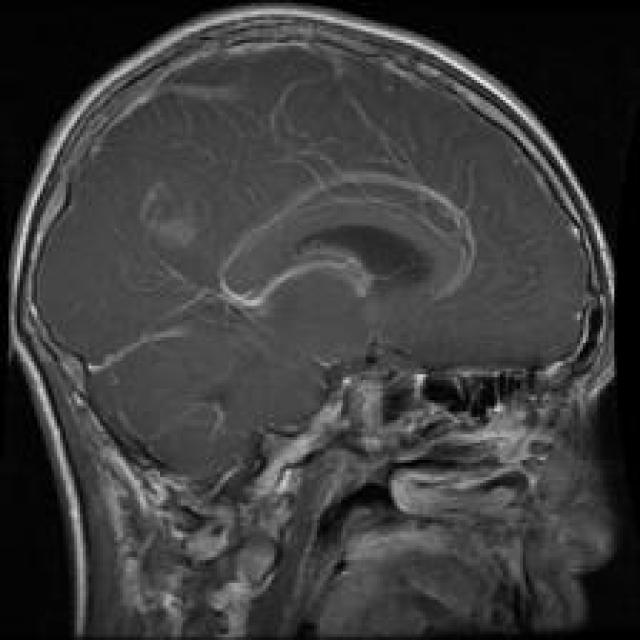glioma_tumor: (146, 164, 490, 315)
